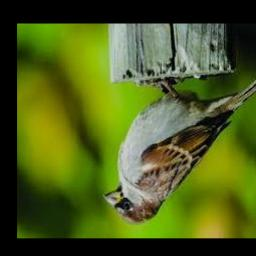Sparrow: (103, 72, 256, 223)
